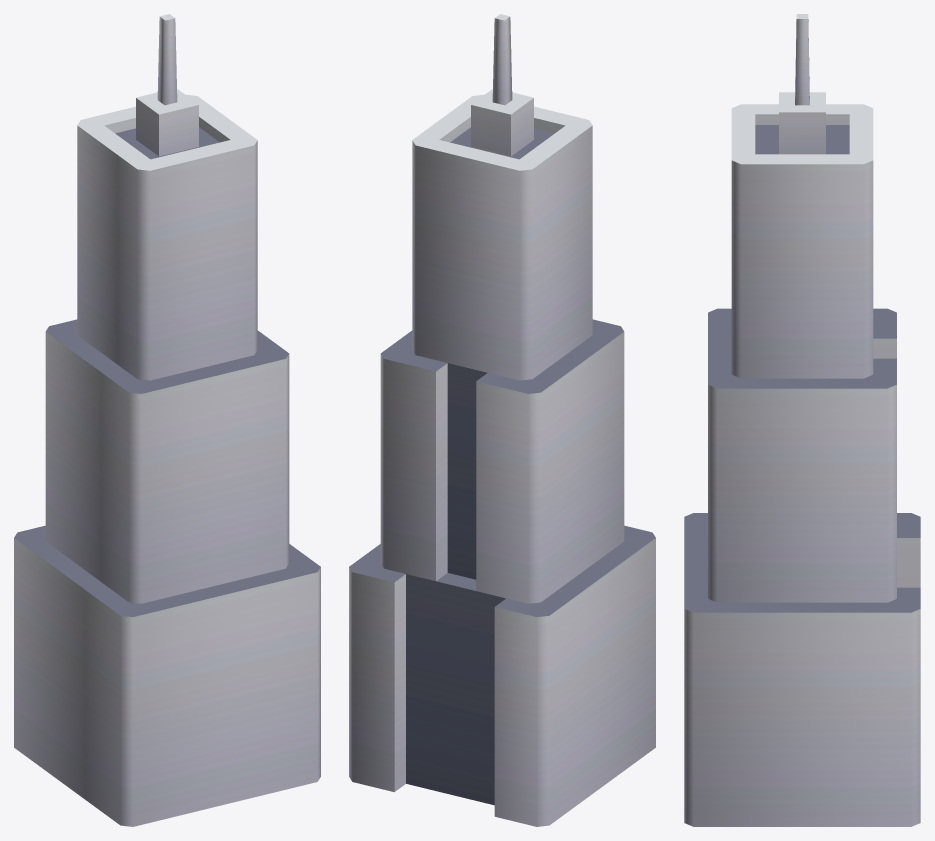
Rendered from low-detail-building-i.glb.
3 renders of one model, left to right at view 1: azimuth 30°, elevation 25°; view 2: azimuth 150°, elevation 25°; view 3: azimuth 270°, elevation 25°, orthographic. The views are drawn at different scales.
Visible parts, largest first — view 1: low-detail-building-i; view 2: low-detail-building-i; view 3: low-detail-building-i.
Boxes of the visible parts, bbox=[...] form: low-detail-building-i: bbox=[14, 14, 320, 826]; low-detail-building-i: bbox=[349, 14, 655, 826]; low-detail-building-i: bbox=[684, 14, 920, 826].
Bounding box in the file's own units: 0.5 × 1.77 × 0.5.
1 material, 1 textured.
